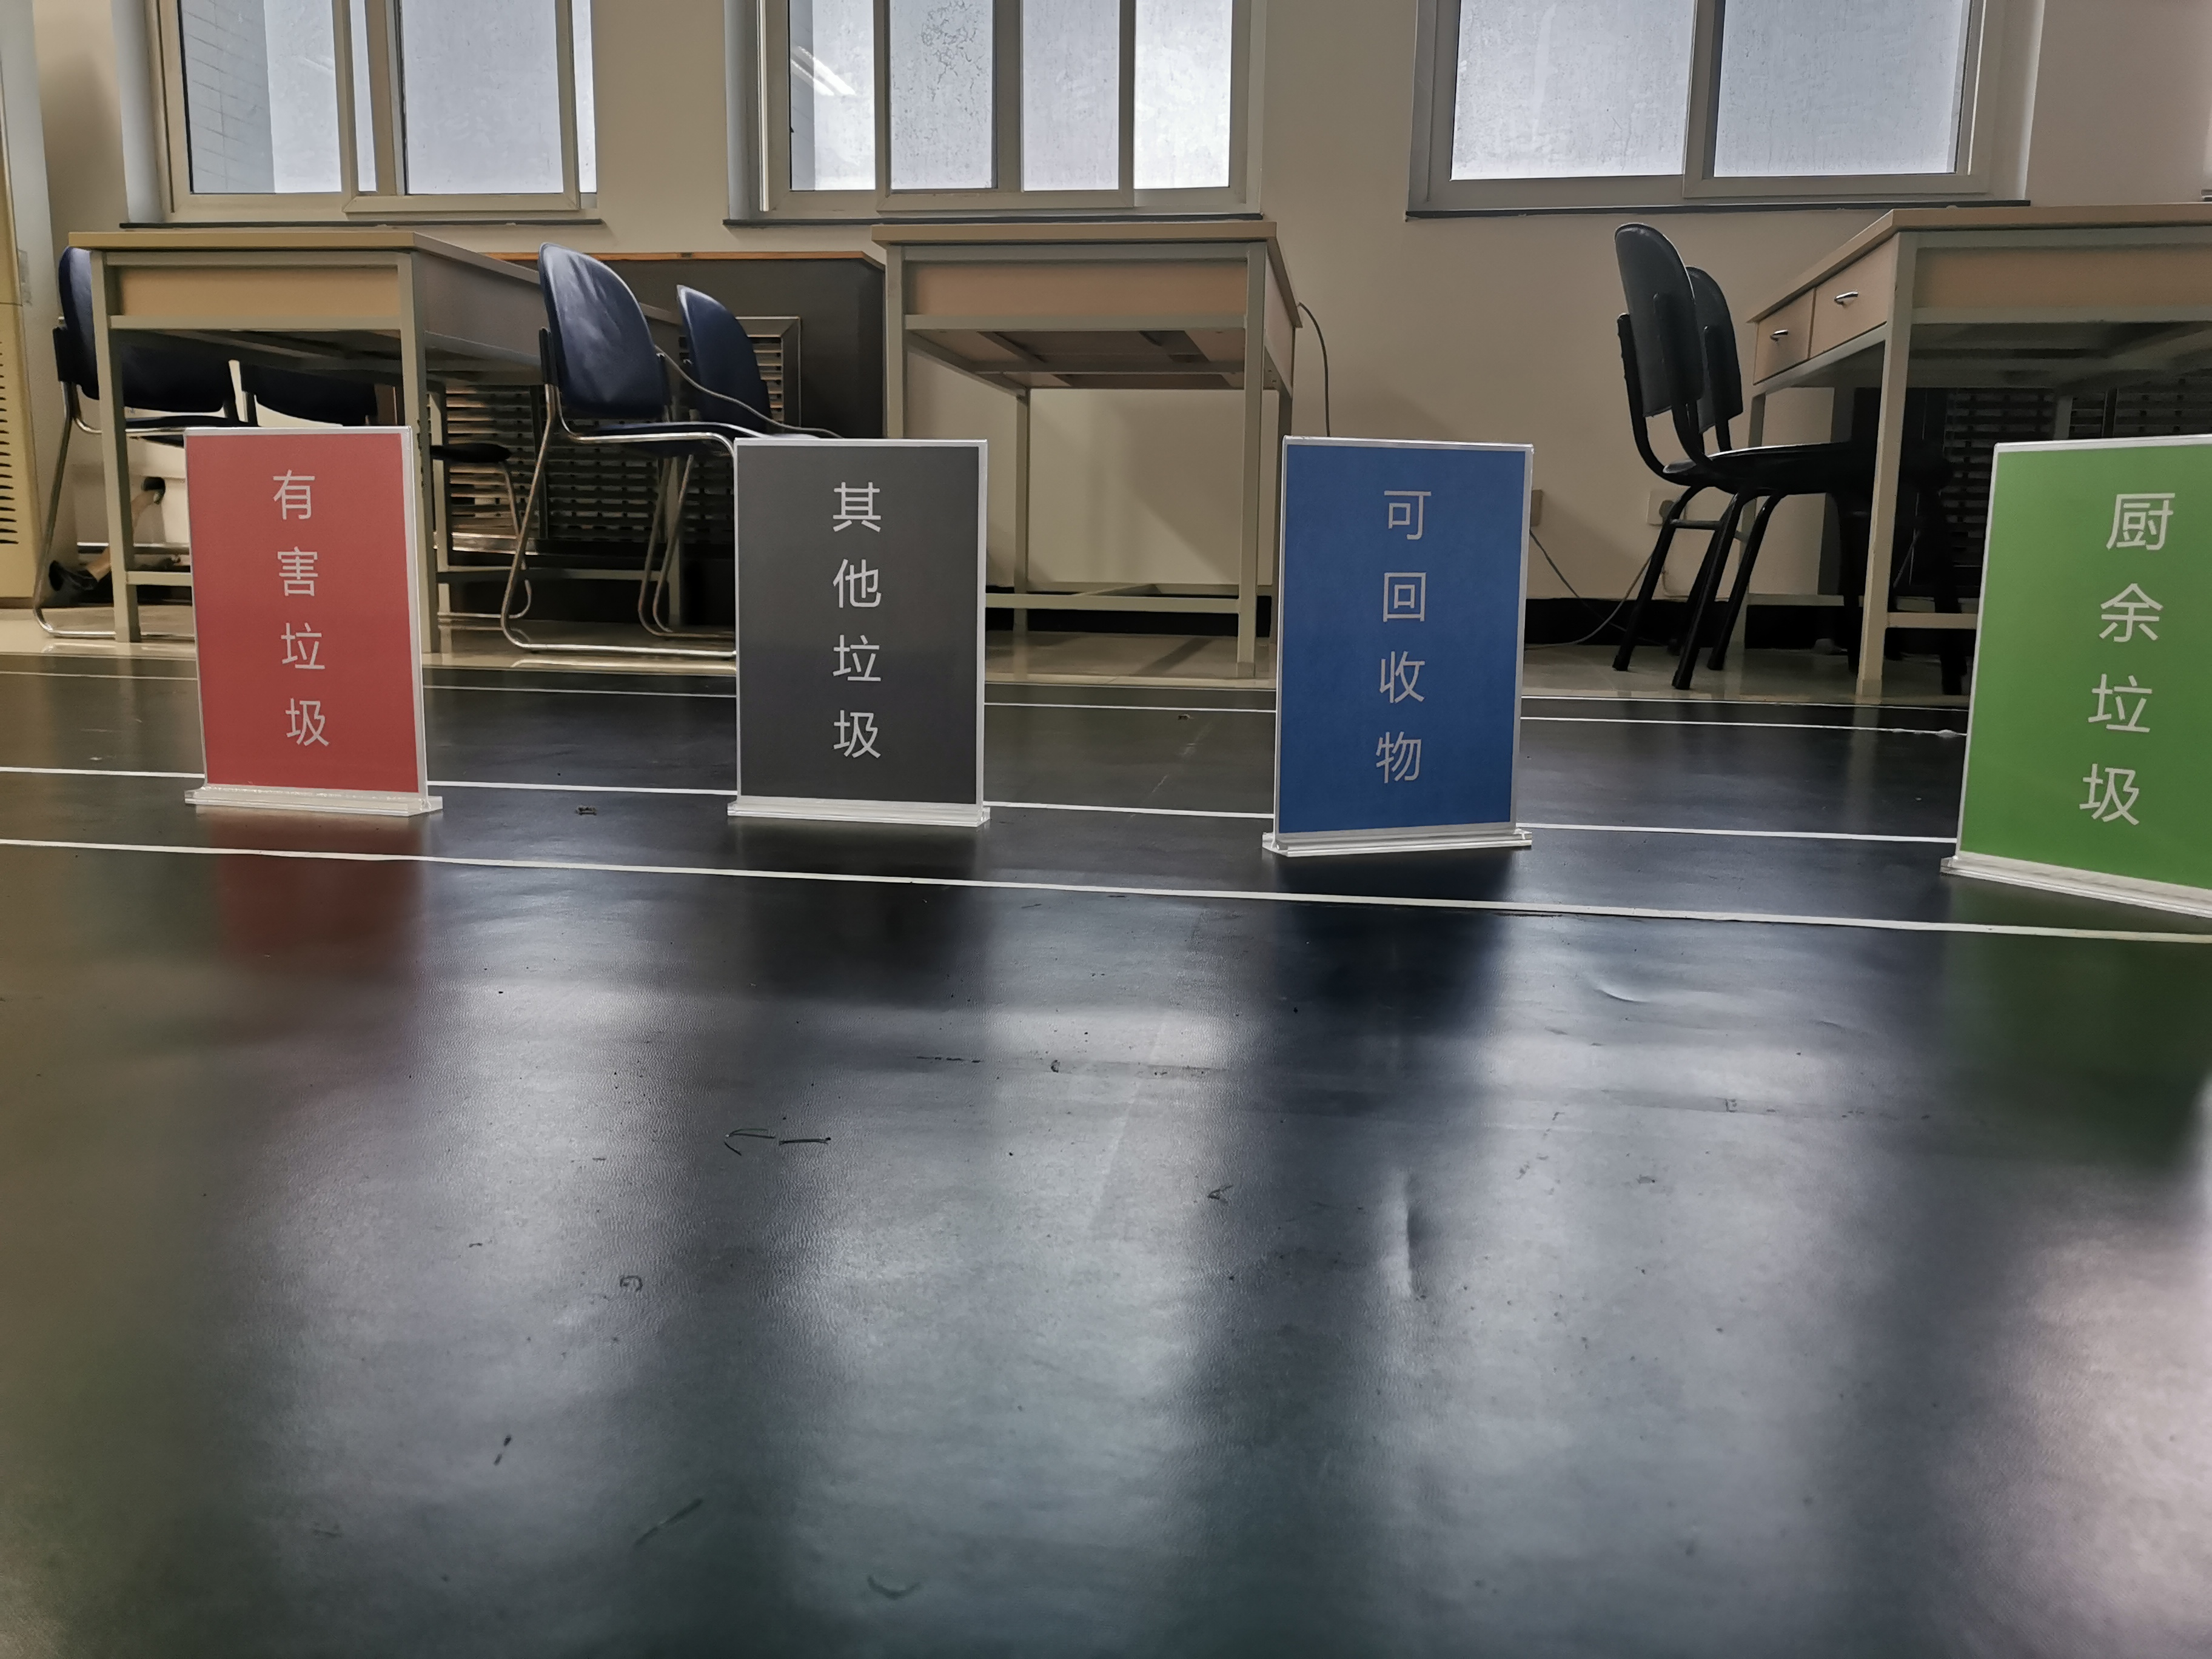black: (742, 455, 970, 786)
blue: (1296, 457, 1501, 816)
green: (2005, 464, 2212, 849)
red: (209, 444, 397, 779)
